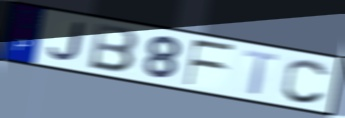8: (143, 34, 182, 80)
B: (87, 22, 140, 75)
C: (280, 57, 331, 106)
F: (183, 38, 237, 87)
J: (47, 21, 86, 63)
T: (243, 48, 280, 97)
